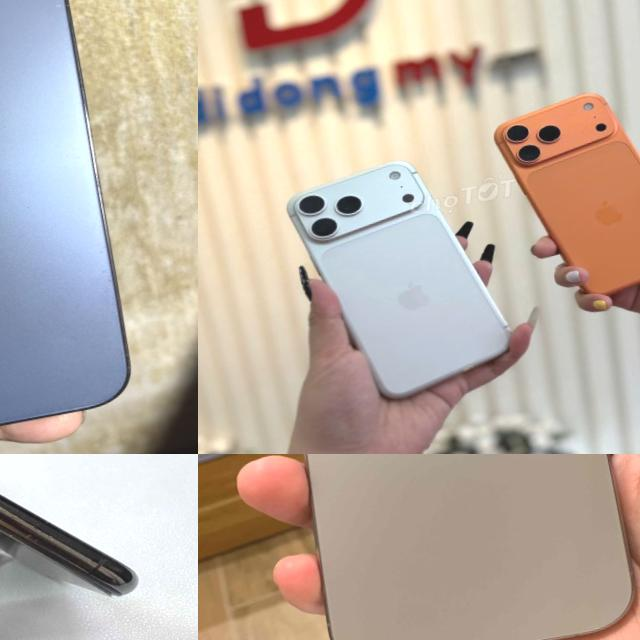gen_11: (0, 454, 158, 640)
gen_12_13: (0, 0, 137, 454)
gen_16: (303, 454, 631, 640)
gen_17: (492, 79, 640, 310)
scratch: (15, 514, 70, 548)
